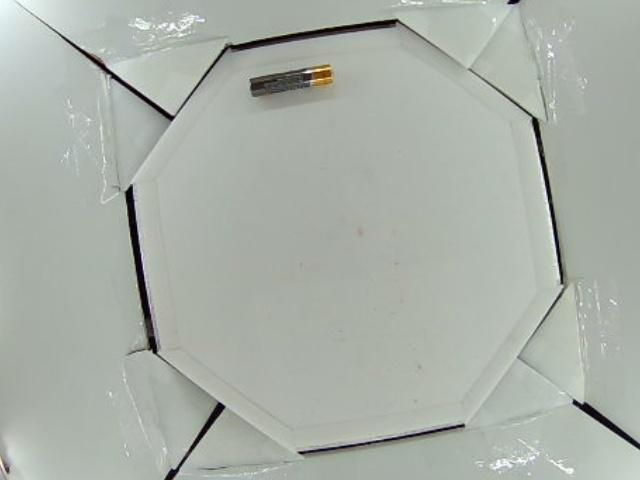Battery: (249, 64, 333, 101)
